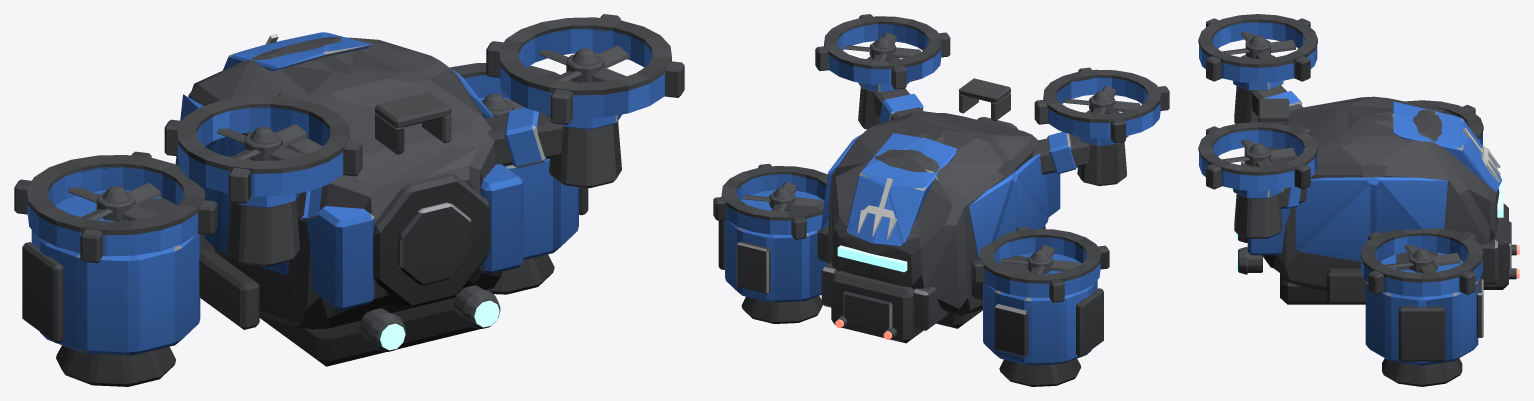
Rendered from heatsinkDroneBastion.6a09c499.glb.
The picture shows the model from 3 angles, left to right: view 1: azimuth 30°, elevation 25°; view 2: azimuth 150°, elevation 25°; view 3: azimuth 270°, elevation 25°; orthographic projection. The views are drawn at different scales.
Parts seen in each view (by area): view 1: Bastion_body, rotor_FL, flap_L, rotor_RR, rotor_RL, nozzle_L, nozzle_R, rotor_FR; view 2: Bastion_body, flap_L, rotor_FR, rotor_FL, rotor_RR, rotor_RL, flap_R; view 3: Bastion_body, flap_R, rotor_FR, rotor_RR, rotor_RL, nozzle_R.
Part boxes in pixels (left/top/right/bottom): Bastion_body: left=14, top=14, right=684, bottom=386; rotor_FL: left=68, top=182, right=160, bottom=221; flap_L: left=175, top=94, right=288, bottom=275; rotor_RR: left=538, top=45, right=628, bottom=82; rotor_RL: left=217, top=124, right=307, bottom=160; nozzle_L: left=359, top=308, right=406, bottom=351; nozzle_R: left=454, top=285, right=500, bottom=328; rotor_FR: left=481, top=93, right=524, bottom=116; Bastion_body: left=713, top=14, right=1169, bottom=386; flap_L: left=968, top=153, right=1048, bottom=259; rotor_FR: left=743, top=182, right=821, bottom=211; rotor_FL: left=1001, top=245, right=1079, bottom=274; rotor_RR: left=845, top=32, right=920, bottom=60; rotor_RL: left=1064, top=86, right=1140, bottom=114; flap_R: left=820, top=134, right=861, bottom=236; Bastion_body: left=1198, top=14, right=1511, bottom=386; flap_R: left=1295, top=177, right=1447, bottom=261; rotor_FR: left=1384, top=244, right=1460, bottom=272; rotor_RR: left=1222, top=139, right=1295, bottom=166; rotor_RL: left=1222, top=31, right=1295, bottom=58; nozzle_R: left=1236, top=247, right=1262, bottom=274.
Bounding box in the file's own units: 6.14 × 3.45 × 4.64.
